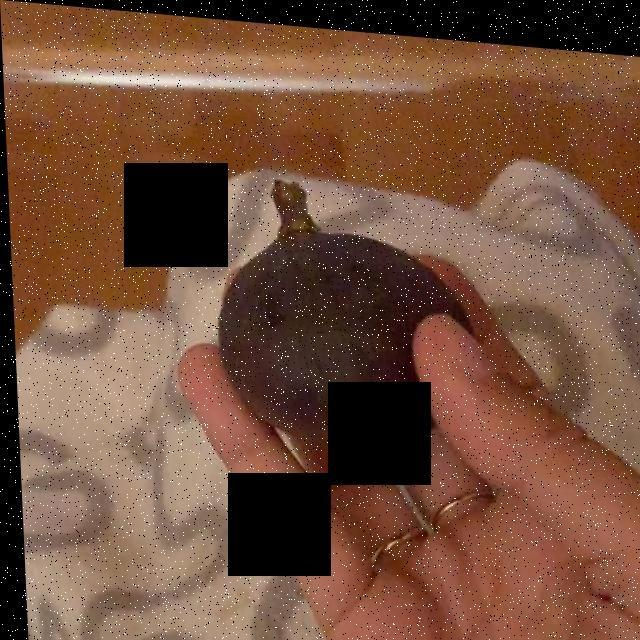figs: (218, 189, 453, 438)
